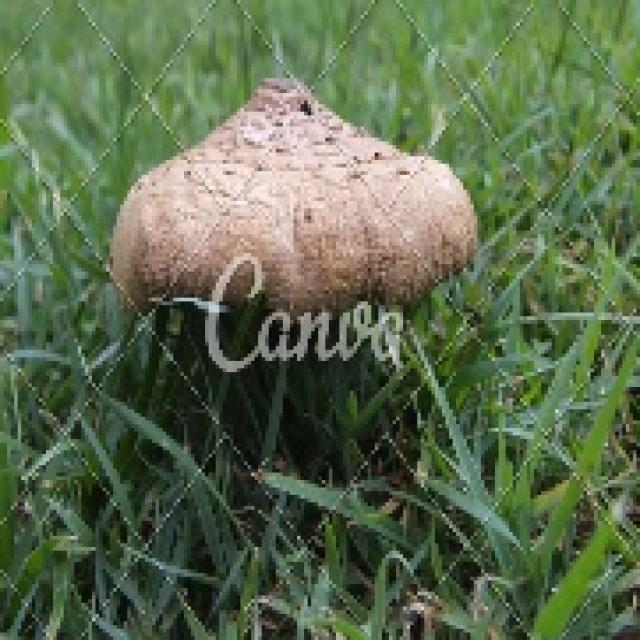mushroom: (106, 63, 474, 398)
